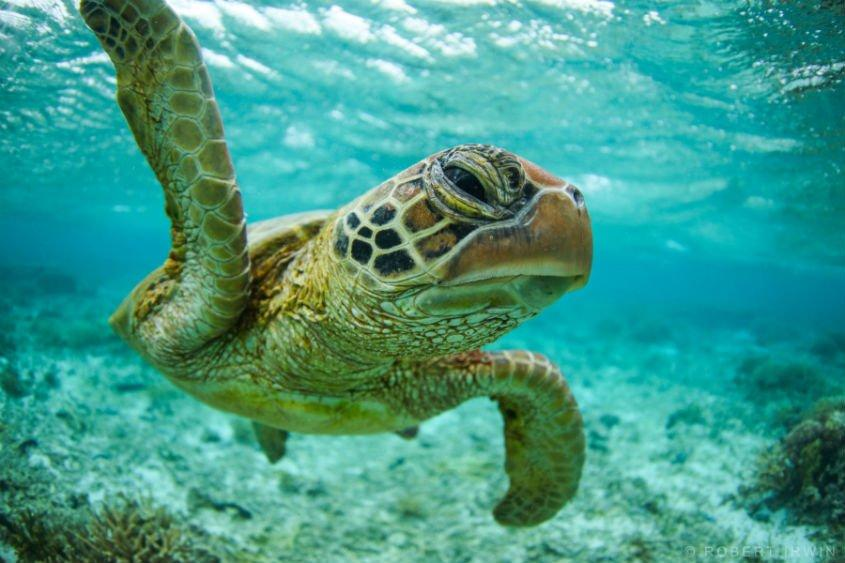turtle: (334, 132, 604, 350)
